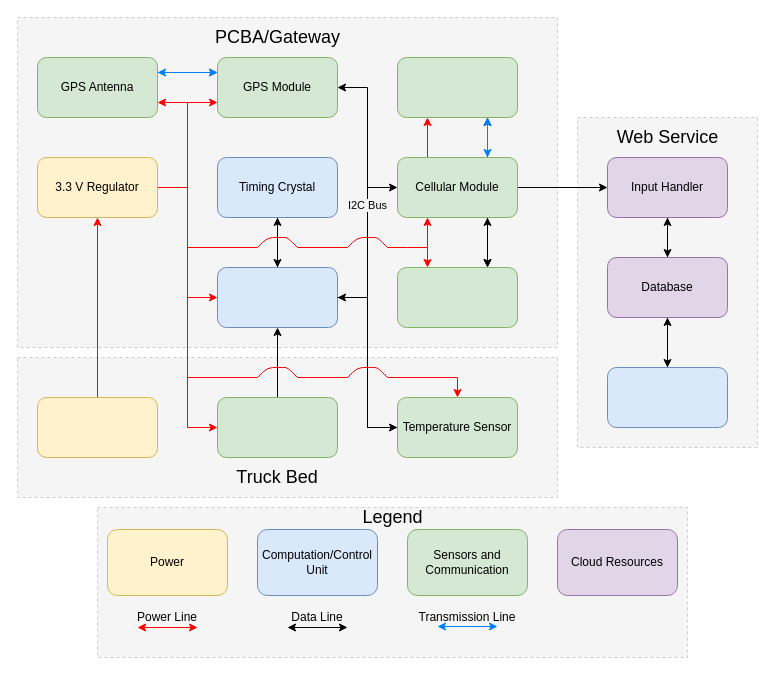
This 775x675 diagram has some shape labels left out. The box of each missing label's shape, as (x1, y1, x2, y2) in pixels:
12V Truck Battery: (36, 396, 158, 458)
Cellular Antenna: (396, 56, 518, 118)
Light Sensor: (216, 396, 338, 458)
Microcontroller: (216, 266, 338, 328)
Mobile App UI: (606, 366, 728, 428)
SIM Card Reader: (396, 266, 518, 328)
